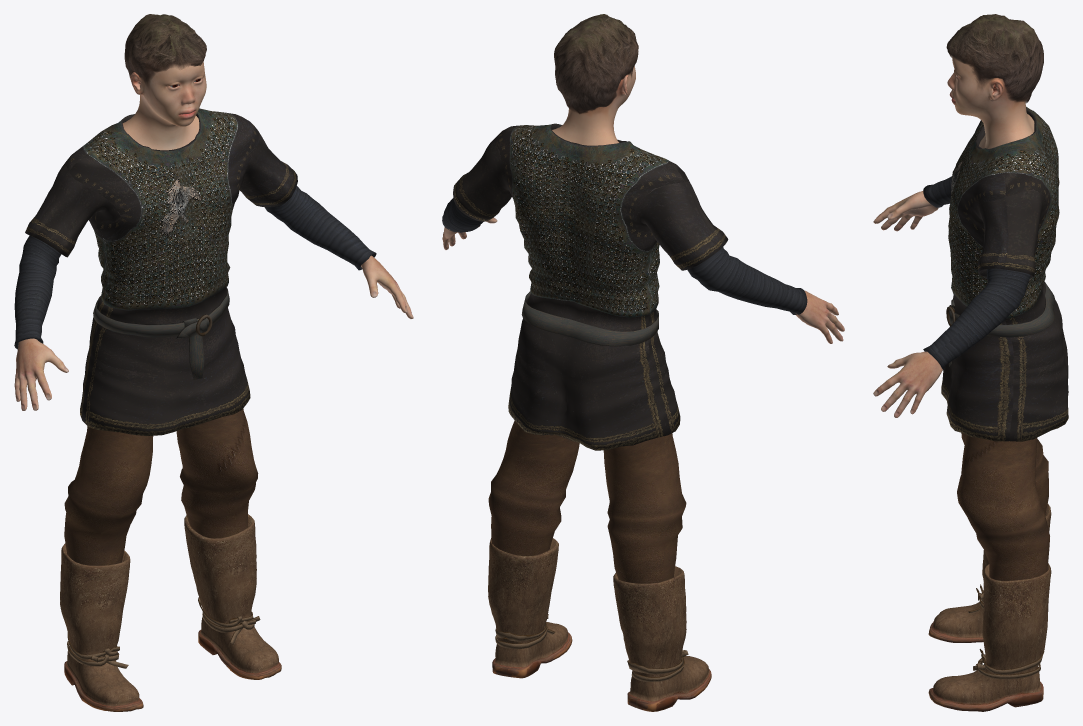
The model's file is control-orin.glb.
3 views of the same model, side by side, from view 1: azimuth 30°, elevation 25°; view 2: azimuth 150°, elevation 25°; view 3: azimuth 270°, elevation 25° (orthographic).
Parts seen in each view (by area): view 1: control-orin runtime mesh; view 2: control-orin runtime mesh; view 3: control-orin runtime mesh.
Boxes of the visible parts, x1,y1,x2,y2 form: control-orin runtime mesh: [14, 14, 413, 711]; control-orin runtime mesh: [442, 14, 844, 711]; control-orin runtime mesh: [873, 14, 1068, 711].
Bounding box in the file's own units: 1.15 × 1.85 × 0.5045.
6 materials, 6 textured.
